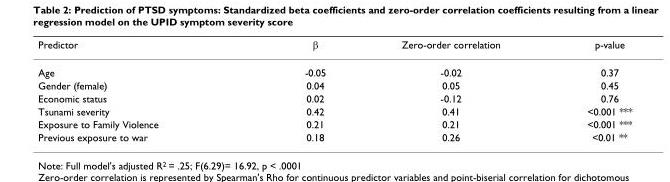table: (37, 37, 631, 142)
table column: (37, 37, 230, 142), (362, 37, 543, 142), (230, 37, 362, 142), (543, 37, 631, 142)
table column header: (37, 37, 631, 58)
table row: (37, 37, 631, 58), (37, 58, 631, 78), (37, 78, 631, 91), (37, 91, 631, 104), (37, 104, 631, 117), (37, 117, 631, 130), (37, 130, 631, 142)
